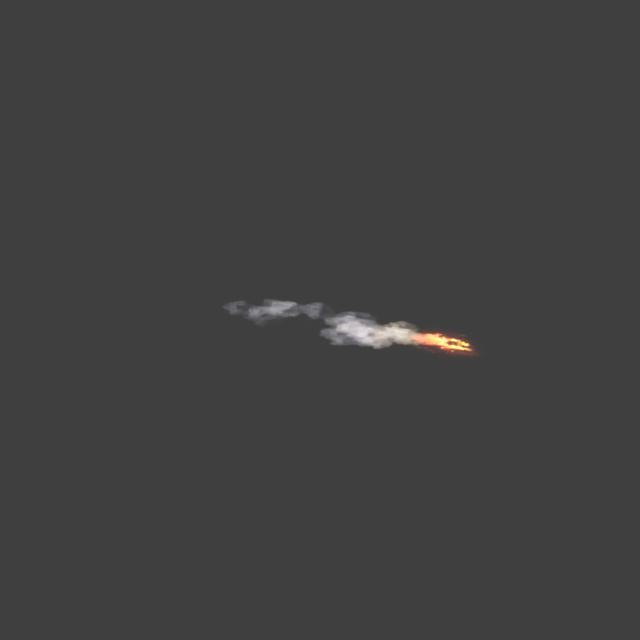fire: (412, 327, 476, 354)
smoke: (235, 292, 418, 350)
